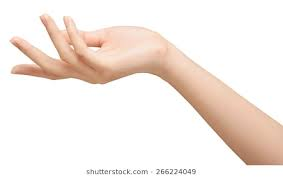hand: (3, 8, 167, 94)
